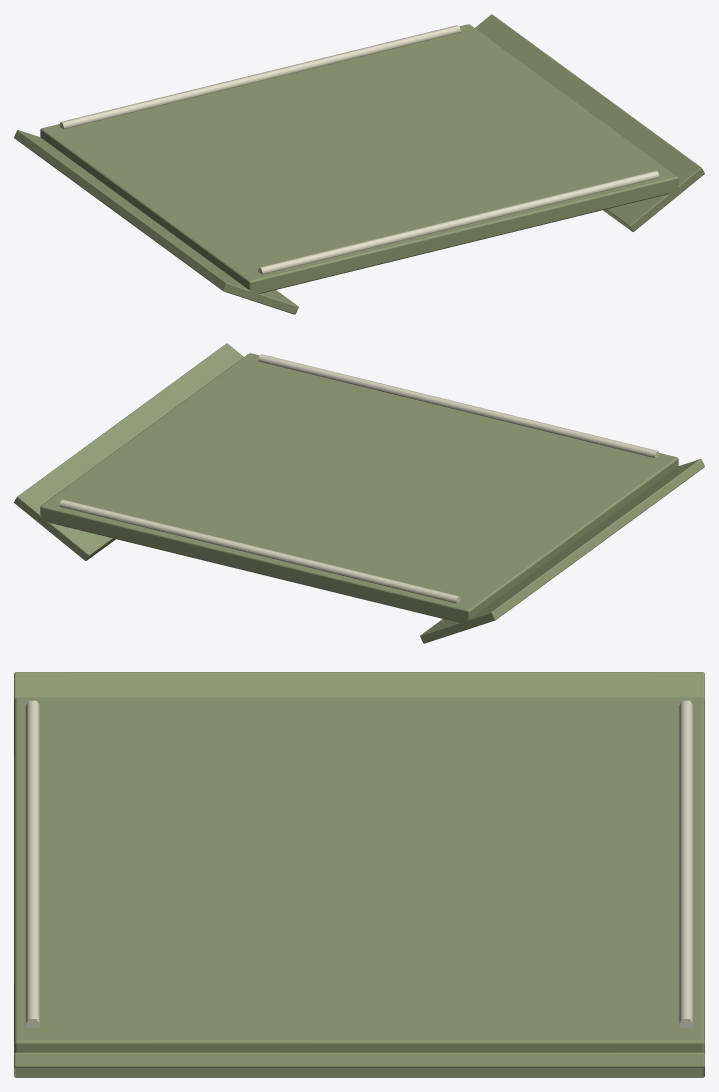
File: creature-husbandry-and-transport-saddle-pad-db28468b__24014.glb
3 renders of one model, top to bottom at view 1: azimuth 30°, elevation 25°; view 2: azimuth 150°, elevation 25°; view 3: azimuth 270°, elevation 25°, orthographic. The views are drawn at different scales.
Visible parts, largest first — view 1: saddle-pad; view 2: saddle-pad; view 3: saddle-pad.
Part boxes in pixels (x1,y1,x2,y2): saddle-pad: (14,14,704,314); saddle-pad: (14,343,704,643); saddle-pad: (14,672,704,1077).
Size of the model in its own units: 1.46 by 0.1441 by 1.1.
